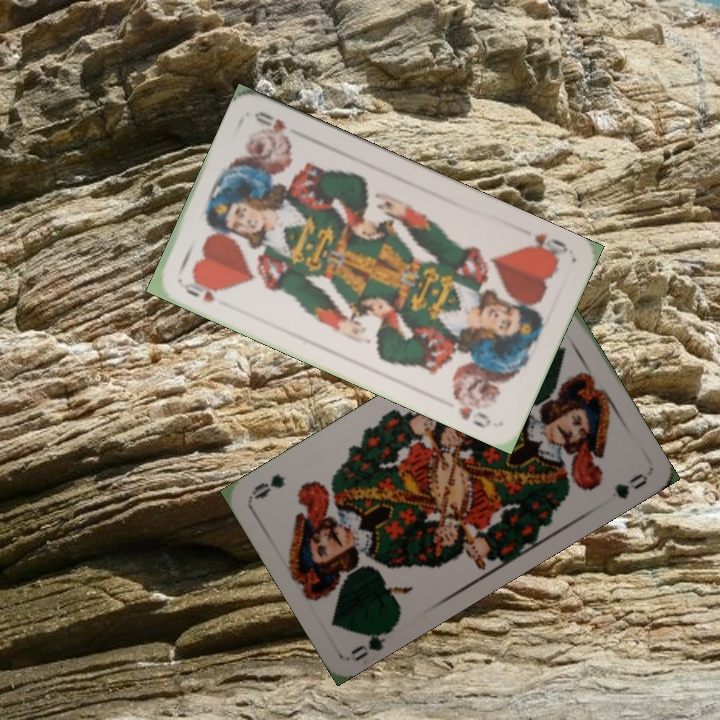GO: (347, 621, 399, 664)
HO: (520, 228, 571, 263), (175, 274, 226, 305)
